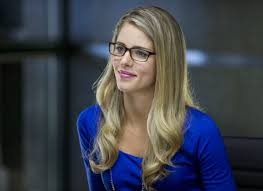Glasses: (105, 37, 155, 67)
